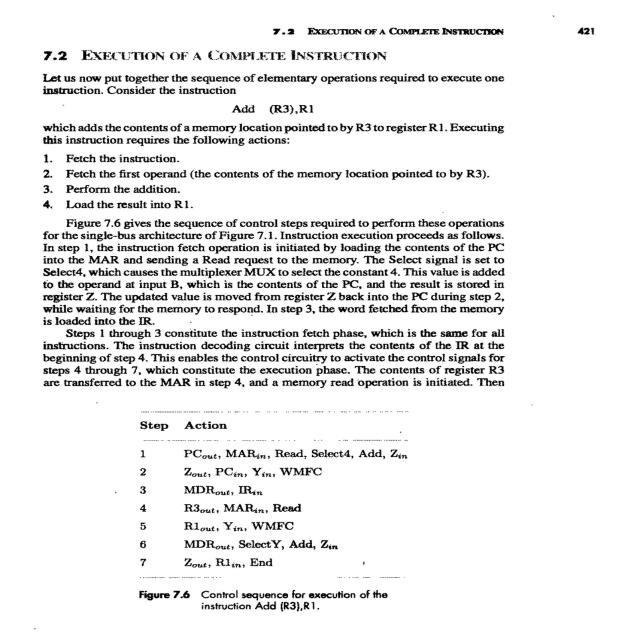diagram: (101, 396, 460, 629)
